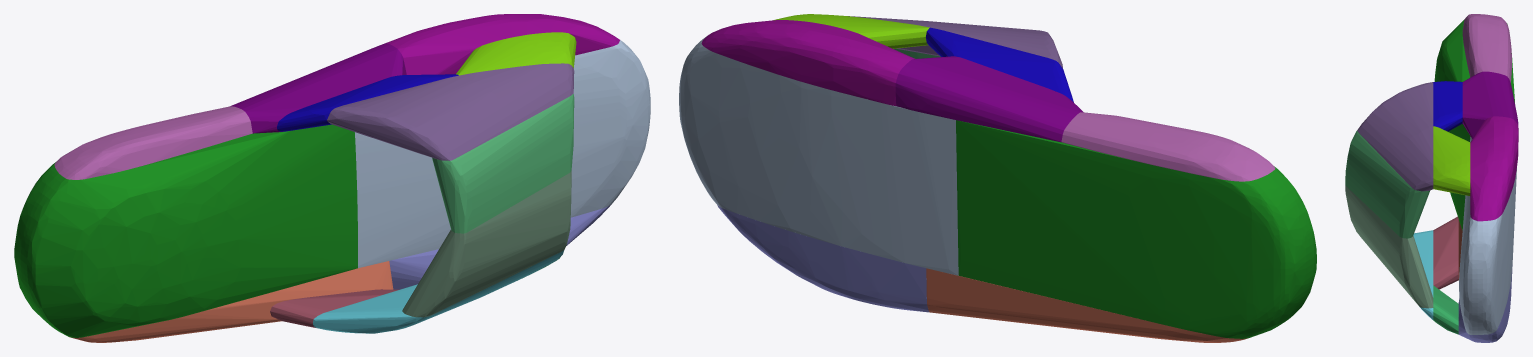
The model's file is coacd_collision.obj.
3 renders of one model, left to right at view 1: azimuth 30°, elevation 25°; view 2: azimuth 150°, elevation 25°; view 3: azimuth 270°, elevation 25°, orthographic. The views are drawn at different scales.
Visible parts, largest first — view 1: geometry_8, geometry_6, geometry_1, geometry_0, geometry_3, geometry_7, geometry_14, geometry_9, geometry_11, geometry_2, geometry_4, geometry_5 (+2 smaller); view 2: geometry_8, geometry_6, geometry_14, geometry_11, geometry_12, geometry_7, geometry_9, geometry_5, geometry_1, geometry_4; view 3: geometry_6, geometry_1, geometry_3, geometry_14, geometry_0, geometry_7, geometry_11, geometry_4, geometry_8, geometry_13, geometry_5, geometry_10 (+3 smaller).
Boxes of the visible parts, box(x1,y1,x2,y2) form: geometry_8: box(14, 124, 357, 337); geometry_6: box(355, 40, 650, 268); geometry_1: box(327, 63, 574, 160); geometry_0: box(402, 171, 571, 317); geometry_3: box(432, 94, 574, 233); geometry_7: box(54, 106, 252, 179); geometry_14: box(385, 14, 619, 74); geometry_9: box(69, 261, 393, 342); geometry_11: box(230, 43, 406, 133); geometry_2: box(313, 250, 564, 333); geometry_4: box(456, 32, 576, 75); geometry_5: box(277, 74, 458, 131); geometry_8: box(956, 120, 1316, 338); geometry_6: box(679, 35, 958, 275); geometry_14: box(701, 20, 914, 105); geometry_11: box(895, 56, 1083, 142); geometry_12: box(717, 205, 929, 312); geometry_7: box(1061, 112, 1275, 181); geometry_9: box(926, 268, 1247, 342); geometry_5: box(926, 27, 1073, 102); geometry_1: box(848, 16, 1062, 68); geometry_4: box(773, 14, 929, 48); geometry_6: box(1459, 137, 1516, 334); geometry_1: box(1357, 82, 1433, 191); geometry_3: box(1345, 130, 1430, 238); geometry_14: box(1470, 116, 1518, 221); geometry_0: box(1345, 185, 1433, 308); geometry_7: box(1462, 14, 1511, 82); geometry_11: box(1462, 71, 1518, 138); geometry_4: box(1433, 126, 1470, 195); geometry_8: box(1434, 19, 1514, 230); geometry_13: box(1433, 216, 1458, 289); geometry_5: box(1433, 81, 1462, 131); geometry_10: box(1433, 285, 1458, 334).
Bounding box in the file's own units: 266 × 104 × 84.75.
